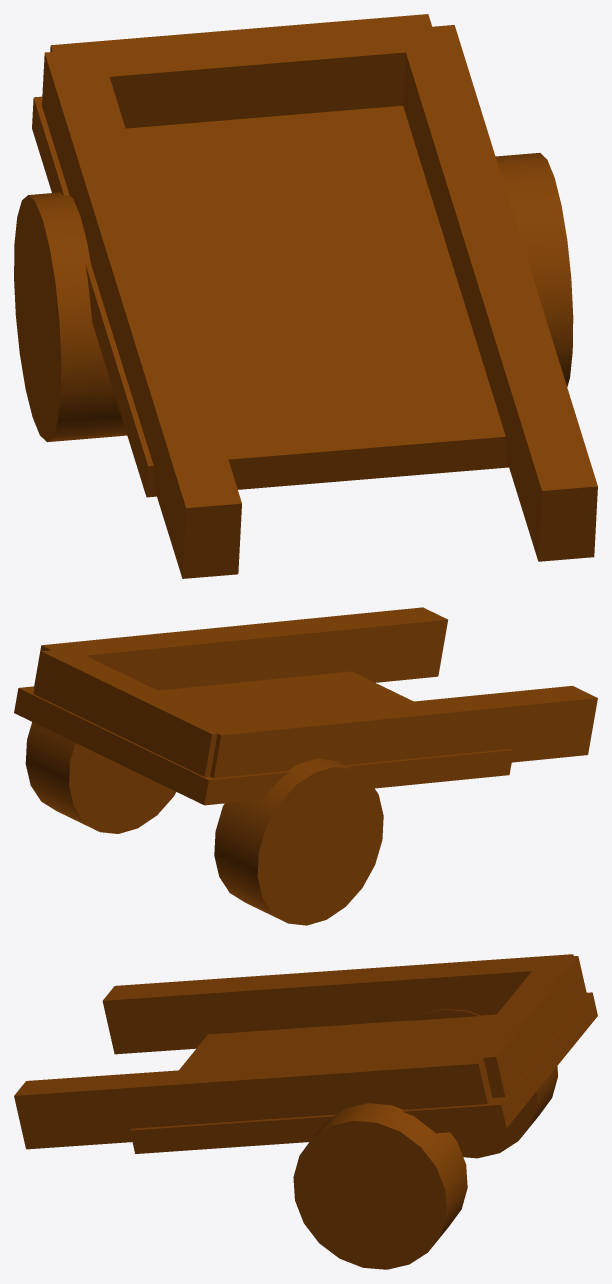
File: carrito.FBX
3 renders of one model, top to bottom at view 1: azimuth 30°, elevation 25°; view 2: azimuth 150°, elevation 25°; view 3: azimuth 270°, elevation 25°, orthographic. The views are drawn at different scales.
Visible parts, largest first — view 1: Cube__3_, Cube__4_, Cube__5_, Cube__6_, Cylinder__1_, Cylinder; view 2: Cube__5_, Cylinder__1_, Cube__4_, Cube__3_, Cube__6_, Cylinder; view 3: Cube__4_, Cube__5_, Cylinder, Cube__3_, Cube__6_, Cylinder__1_.
Boxes of the visible parts, <box> form: Cube__3_: <box>32,96,508,497</box>; Cube__4_: <box>399,25,597,561</box>; Cube__5_: <box>42,48,241,578</box>; Cube__6_: <box>50,14,431,128</box>; Cylinder__1_: <box>14,192,127,442</box>; Cylinder: <box>495,153,573,386</box>; Cube__5_: <box>196,685,597,778</box>; Cylinder__1_: <box>214,758,383,925</box>; Cube__4_: <box>34,607,447,690</box>; Cube__3_: <box>14,671,513,805</box>; Cube__6_: <box>33,650,219,776</box>; Cylinder: <box>25,722,175,833</box>; Cube__4_: <box>14,1049,492,1149</box>; Cube__5_: <box>102,954,573,1054</box>; Cylinder: <box>293,1103,467,1269</box>; Cube__3_: <box>130,992,597,1153</box>; Cube__6_: <box>468,956,587,1097</box>; Cylinder__1_: <box>412,1009,557,1158</box>.
Size of the model in its own units: 276 by 138 by 358.
